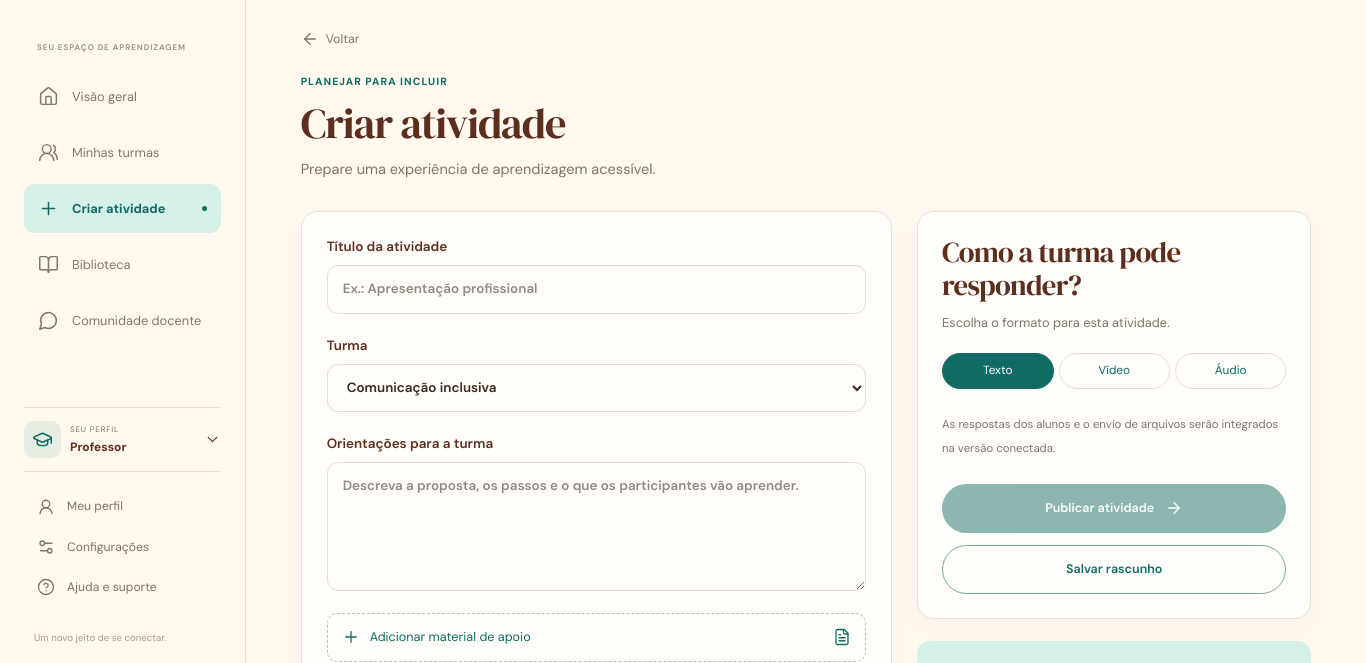
Test case: Fluxos do protótipo › professor cria atividade, publica e reencontra os dados
This screenshot has width=1366, height=663.
Type "Apresentação acessível" into the field labelled "Título da atividade" at (596, 290), box x1=327 y1=266 x2=866 y2=314
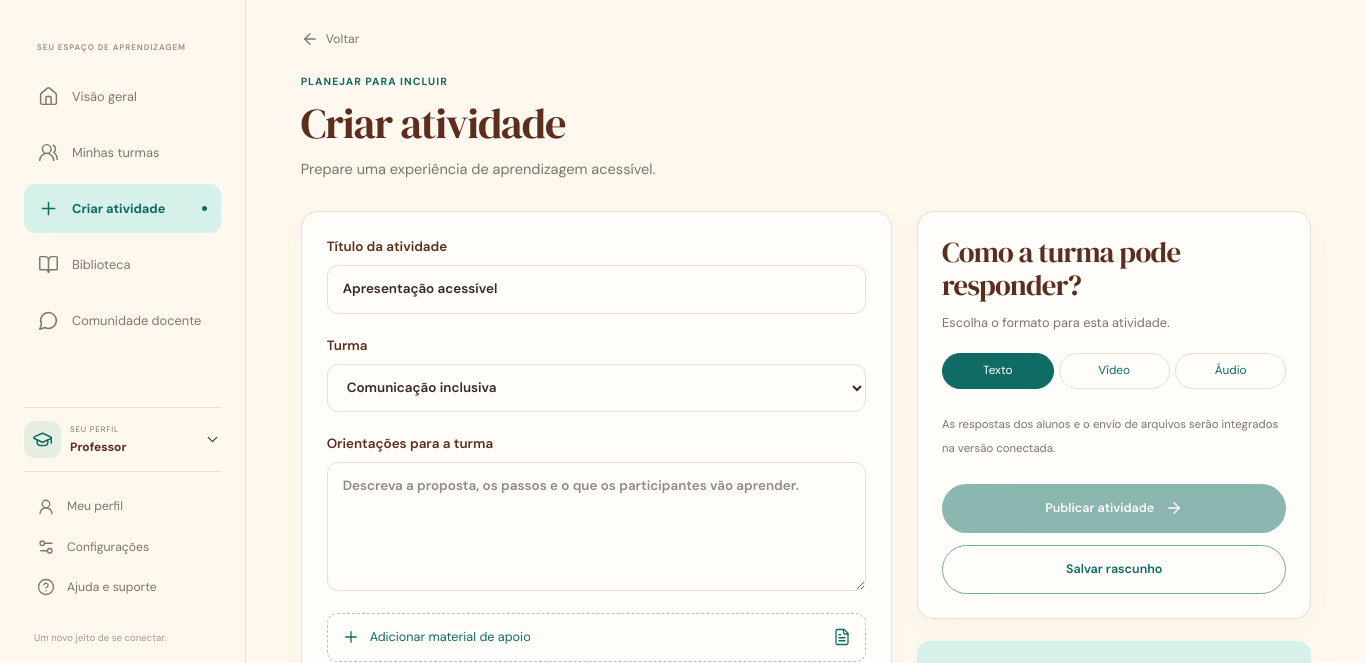
Replace the text in the text box labelled "Orientações para a turma" with "Apresente sua experiência com apoio visual." at (596, 526), box x1=327 y1=462 x2=866 y2=591
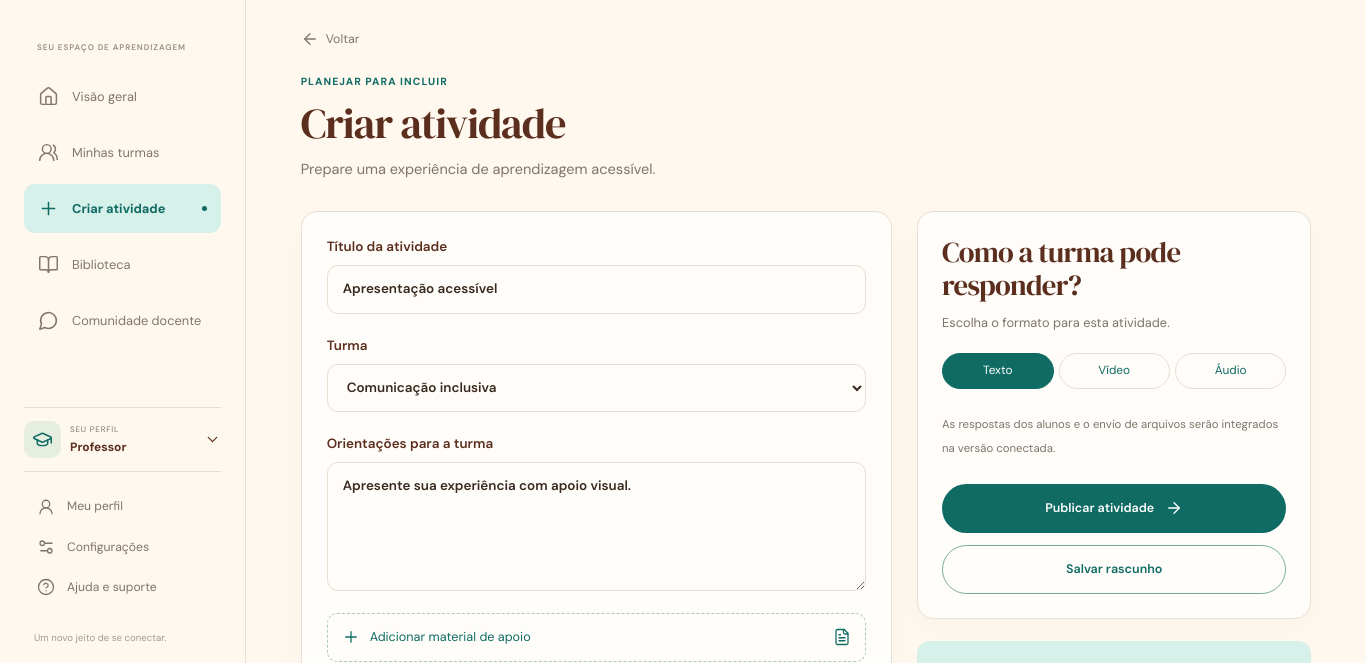
Click the button "Publicar atividade" at (1114, 508), box x1=942 y1=484 x2=1286 y2=532
(page scrolled)
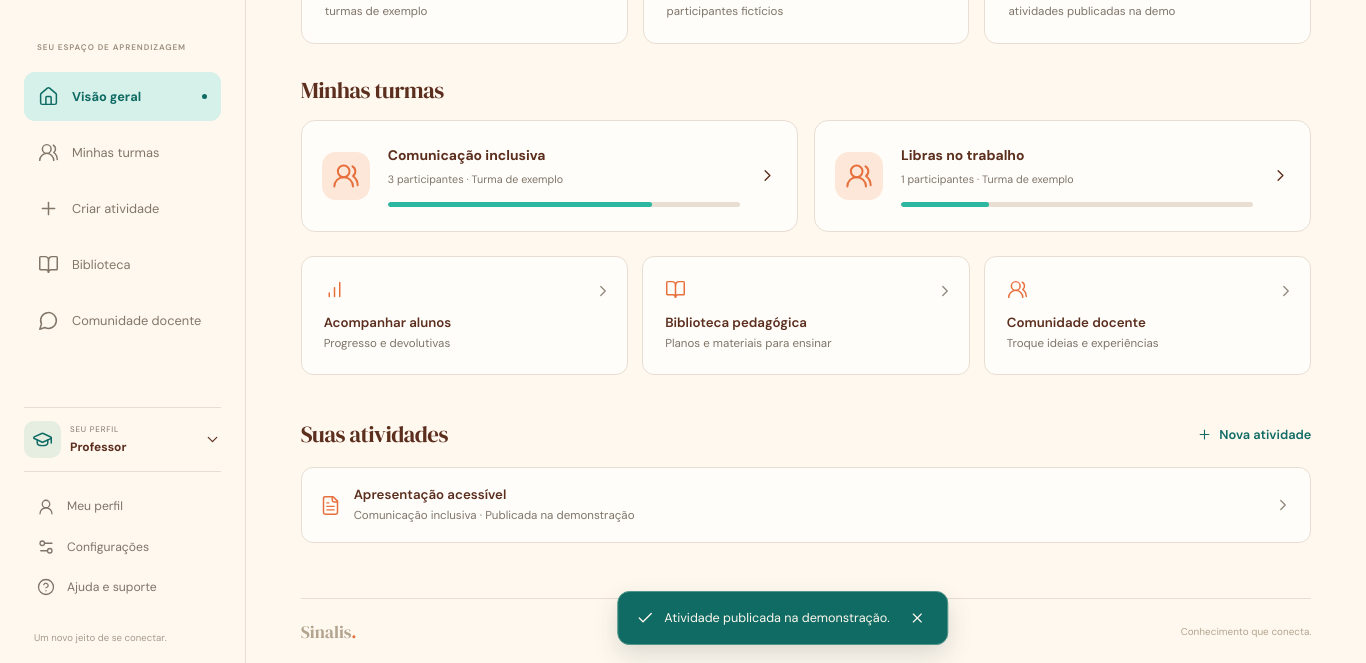
Click the button "Apresentação acessível" at (430, 495), box x1=301 y1=467 x2=1311 y2=543
(page scrolled)
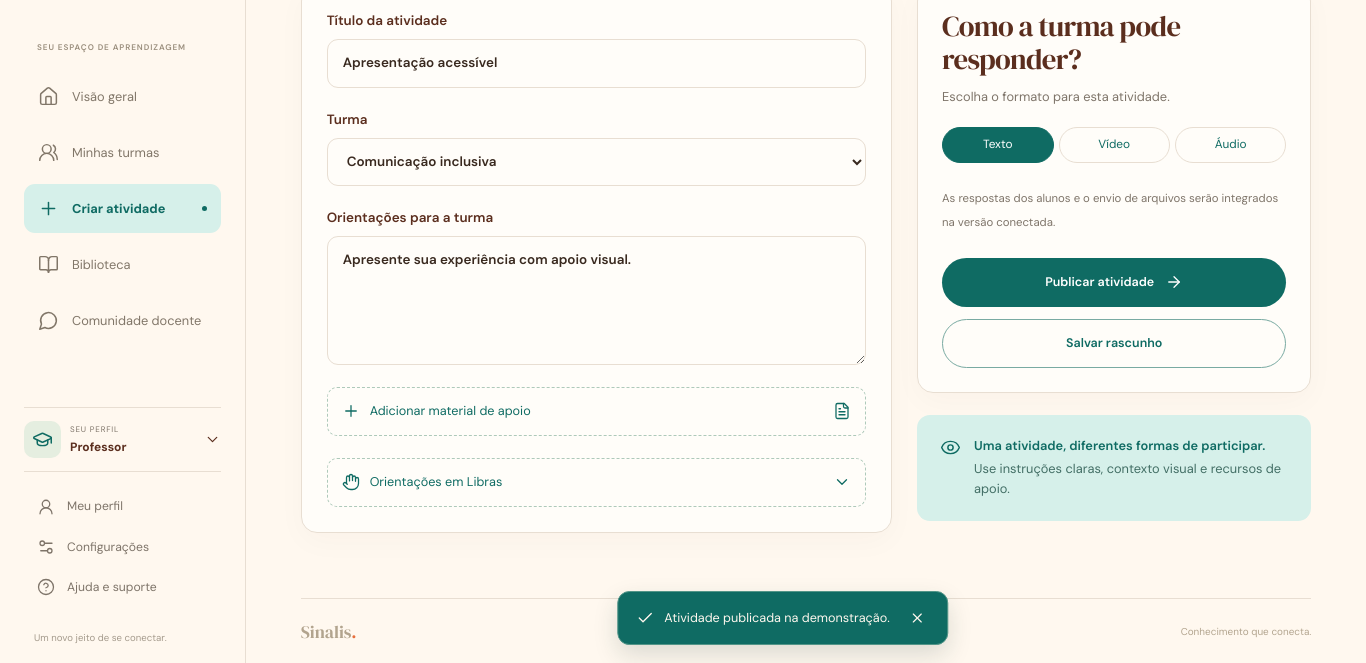
Expected: the field labelled "Título da atividade" holds "Apresentação acessível", x1=327 y1=40 x2=866 y2=88
